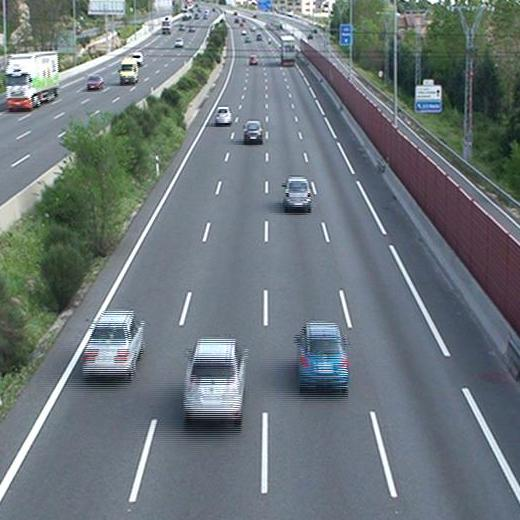car: (184, 338, 250, 425), (82, 313, 144, 378), (293, 322, 350, 390), (282, 175, 312, 210), (241, 119, 264, 143), (213, 106, 232, 126), (246, 53, 258, 67)
truck: (279, 36, 297, 67)
